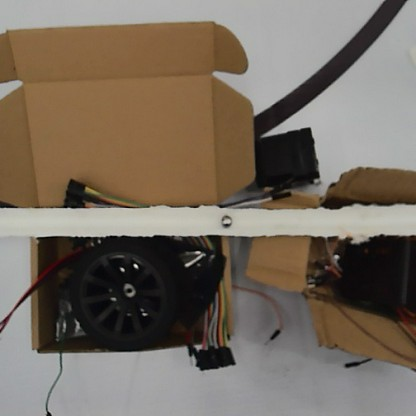ironball: (218, 213, 233, 229)
